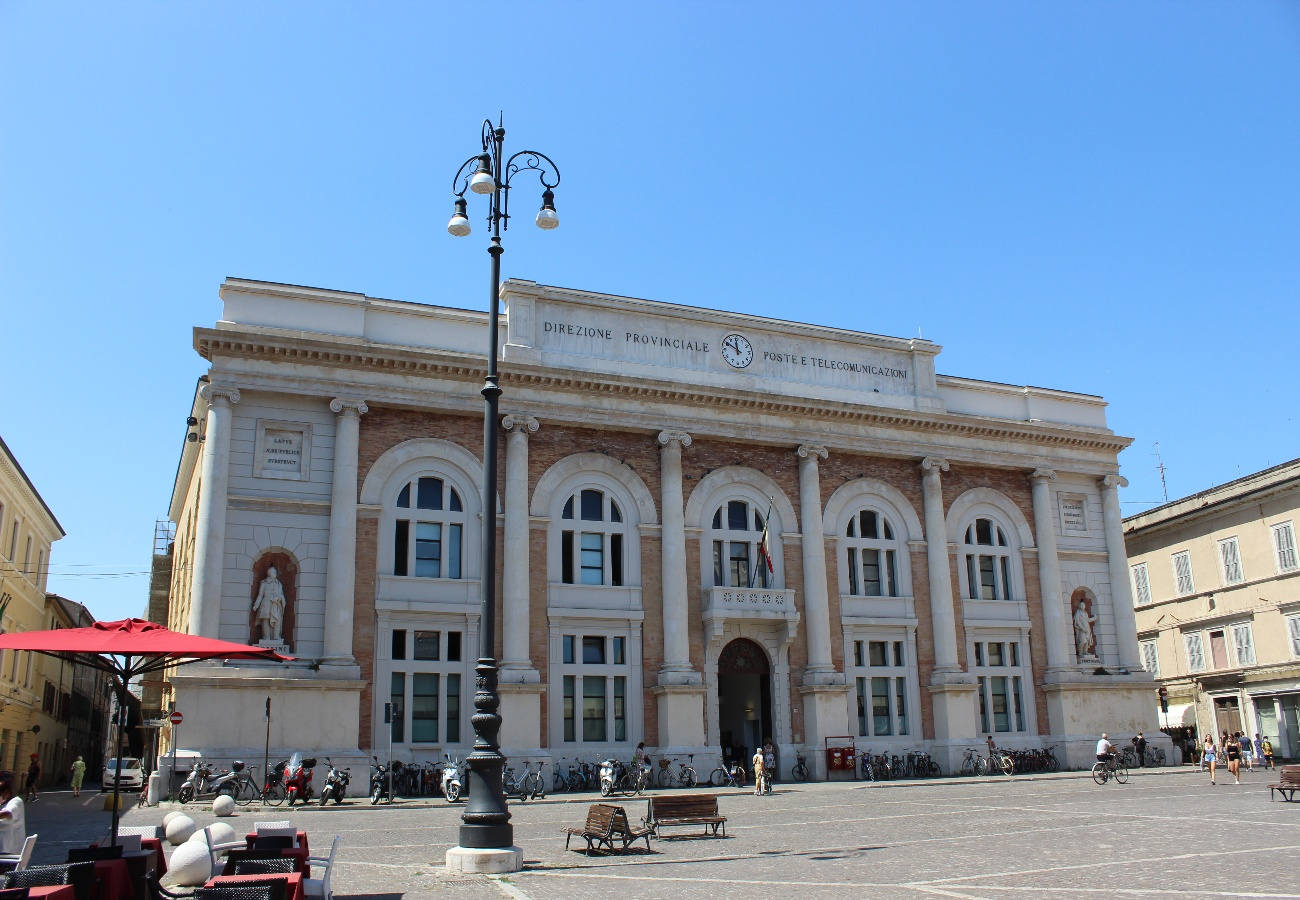Gioachino Rossini: (242, 543, 302, 666)
Palazzo delle Poste: (198, 280, 1147, 788)
